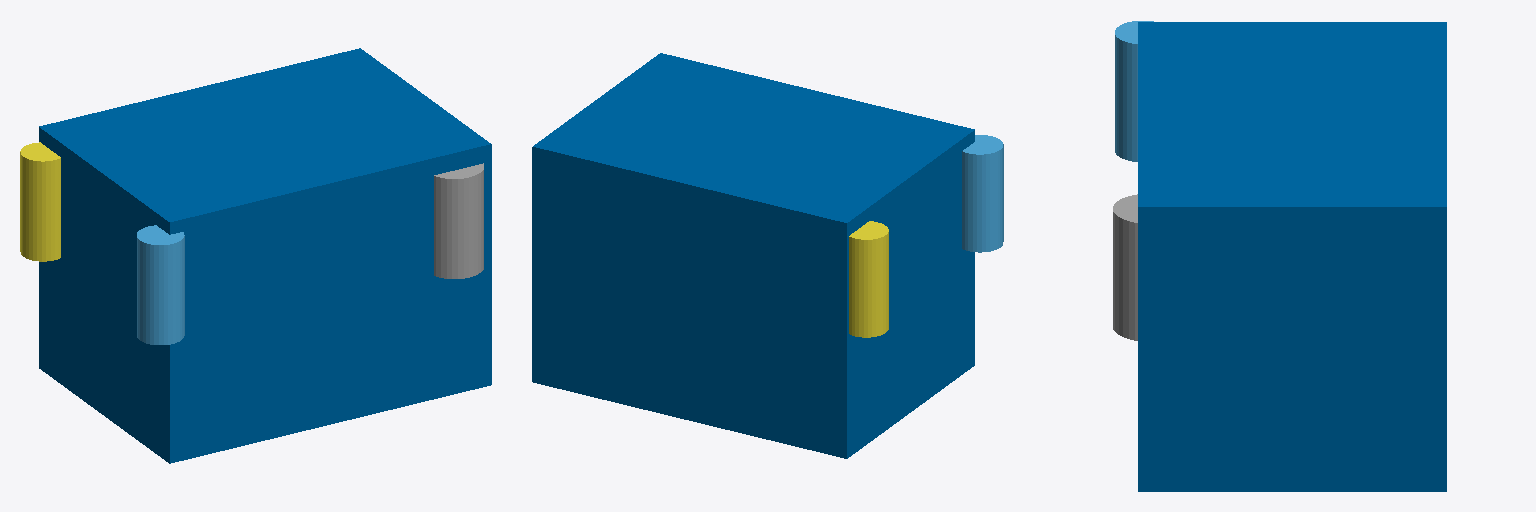
robot.urdf — rover2025:
<robot name="rover2025" version="1.0">
  <joint name="gps_locator" type="fixed">
    <origin rpy="0.00000 0.00000 0.00000" xyz="0.09323 0.00000 0.65743"/>
    <parent link="robot_root"/>
    <child link="gps"/>
    <axis xyz="0.00000 0.00000 1.00000"/>
  </joint>
  <joint name="robot_base_joint" type="fixed">
    <origin rpy="-0.00000 -0.00000 0.00000" xyz="0.00000 0.00000 -0.00050"/>
    <parent link="robot_root"/>
    <child link="robot_base"/>
  </joint>
  <joint name="wheel_R_front" type="continuous">
    <limit effort="0.00000" velocity="0.00000"/>
    <origin rpy="-0.00000 -0.00000 0.00000" xyz="-0.00000 -0.00000 -0.15555"/>
    <parent link="robot_wheel_l_front_actuator_link.008"/>
    <child link="robot_wheel_l_front_actuator_link.009"/>
    <axis xyz="0.00000 -1.00000 0.00000"/>
  </joint>
  <joint name="imu_joint" type="fixed">
    <origin rpy="-0.00000 0.00000 -0.00000" xyz="-0.00000 -0.00000 0.43039"/>
    <parent link="robot_base"/>
    <child link="imu"/>
  </joint>
  <joint name="rotate_L_back" type="revolute">
    <limit lower="-2.96706" upper="2.96706" effort="0.00000" velocity="0.00000"/>
    <origin rpy="-0.00000 -0.00000 0.00000" xyz="0.43705 -0.37063 0.32476"/>
    <parent link="robot_base"/>
    <child link="robot_wheel_l_front_actuator_link.005"/>
    <axis xyz="0.00000 0.00000 1.00000"/>
  </joint>
  <joint name="wheel_L_back" type="continuous">
    <limit effort="0.00000" velocity="0.00000"/>
    <origin rpy="0.00000 -0.00000 -0.00000" xyz="-0.00000 0.00000 -0.15555"/>
    <parent link="robot_wheel_l_front_actuator_link.005"/>
    <child link="robot_wheel_l_front_actuator_link.006"/>
    <axis xyz="0.00000 -1.00000 0.00000"/>
  </joint>
  <joint name="rotate_L_front" type="revolute">
    <limit lower="-2.96706" upper="2.96706" effort="0.00000" velocity="0.00000"/>
    <origin rpy="-0.00000 -0.00000 0.00000" xyz="-0.57753 -0.37063 0.32476"/>
    <parent link="robot_base"/>
    <child link="robot_wheel_l_front_actuator_link.003"/>
    <axis xyz="0.00000 0.00000 1.00000"/>
  </joint>
  <joint name="wheel_L_front" type="continuous">
    <limit effort="0.00000" velocity="0.00000"/>
    <origin rpy="0.00000 -0.00000 -0.00000" xyz="-0.00000 0.00000 -0.15555"/>
    <parent link="robot_wheel_l_front_actuator_link.003"/>
    <child link="robot_wheel_l_front_actuator_link.004"/>
    <axis xyz="0.00000 -1.00000 0.00000"/>
  </joint>
  <joint name="rotate_R_back" type="revolute">
    <limit lower="-2.96706" upper="2.96706" effort="0.00000" velocity="0.00000"/>
    <origin rpy="0.00000 -0.00000 -3.14159" xyz="0.43705 0.32063 0.32476"/>
    <parent link="robot_base"/>
    <child link="robot_wheel_l_front_actuator_link.011"/>
    <axis xyz="0.00000 0.00000 1.00000"/>
  </joint>
  <joint name="wheel_R_back" type="continuous">
    <limit effort="0.00000" velocity="0.00000"/>
    <origin rpy="-0.00000 -0.00000 0.00000" xyz="0.00000 0.00000 -0.15555"/>
    <parent link="robot_wheel_l_front_actuator_link.011"/>
    <child link="robot_wheel_l_front_actuator_link.012"/>
    <axis xyz="0.00000 -1.00000 0.00000"/>
  </joint>
  <joint name="rotate_R_front" type="revolute">
    <limit lower="-2.96706" upper="2.96706" effort="0.00000" velocity="0.00000"/>
    <origin rpy="0.00000 -0.00000 -3.14159" xyz="-0.57753 0.32063 0.32476"/>
    <parent link="robot_base"/>
    <child link="robot_wheel_l_front_actuator_link.008"/>
    <axis xyz="0.00000 0.00000 1.00000"/>
  </joint>
  <link name="robot_root">
    <collision name="body_collision">
      <origin rpy="0.00000 0.00000 0.00000" xyz="0.00000 0.00000 0.00000"/>
      <geometry>
        <box size="5.69672 4.01711 2.92977"/>
      </geometry>
    </collision>
  </link>
  <link name="gps">
    <sensor name="gps.001" type="GPS">
      <parent link="gps"/>
    </sensor>
  </link>
  <link name="robot_wheel_l_front_actuator_link.008">
    <inertial>
      <inertia ixx="0.00100" ixy="0.00000" ixz="0.00000" iyy="0.00100" iyz="-0.00000" izz="0.00100"/>
      <origin rpy="0.00000 0.00000 0.00000" xyz="0.00000 0.00000 -0.00000"/>
      <mass value="1.00000"/>
    </inertial>
    <visual name="bone-r-1">
      <material name="None"/>
      <origin rpy="0.00000 0.00000 1.57080" xyz="-0.00377 0.00334 0.07903"/>
      <geometry>
        <mesh filename="../meshes/stl/Science.422.stl" scale="1 1 1"/>
      </geometry>
    </visual>
  </link>
  <link name="robot_wheel_l_front_actuator_link.009">
    <collision name="wheel-r-1_collision">
      <origin rpy="0.00000 -0.00000 3.14159" xyz="-0.57753 0.32063 -0.16871"/>
      <geometry>
        <cylinder radius="0.78907" length="0.71014"/>
      </geometry>
    </collision>
    <visual name="wheel-r-1">
      <material name="None"/>
      <origin rpy="0.00000 0.00000 1.57080" xyz="-0.00334 0.00643 0.01418"/>
      <geometry>
        <cylinder radius="0.06742" length="0.32599"/>
      </geometry>
    </visual>
  </link>
  <link name="robot_base">
    <visual name="body">
      <material name="None"/>
      <origin rpy="-0.00000 0.00000 -0.00000" xyz="-0.00000 -0.00000 0.00050"/>
      <geometry>
        <box size="1.09671 0.77336 0.78564"/>
      </geometry>
    </visual>
  </link>
  <link name="imu">
    <sensor name="imu-sensor" type="imu">
      <parent link="imu"/>
    </sensor>
  </link>
  <link name="robot_wheel_l_front_actuator_link.005">
    <inertial>
      <inertia ixx="0.00100" ixy="-0.00000" ixz="-0.00000" iyy="0.00100" iyz="0.00000" izz="0.00100"/>
      <origin rpy="0.00000 0.00000 0.00000" xyz="0.00000 0.00000 -0.00000"/>
      <mass value="1.00000"/>
    </inertial>
    <visual name="bone-l-2">
      <material name="None"/>
      <origin rpy="-0.00000 -0.00000 -1.57080" xyz="-0.00056 0.00243 0.06913"/>
      <geometry>
        <mesh filename="../meshes/stl/Science.479.stl" scale="1 1 1"/>
      </geometry>
    </visual>
  </link>
  <link name="robot_wheel_l_front_actuator_link.006">
    <collision name="wheel-l-2_collision">
      <origin rpy="0.00000 0.00000 0.00000" xyz="-0.43705 0.37063 -0.16871"/>
      <geometry>
        <cylinder radius="0.78567" length="0.93707"/>
      </geometry>
    </collision>
    <visual name="wheel-l-2">
      <material name="None"/>
      <origin rpy="-0.00000 -0.00000 -1.57080" xyz="-0.00094 0.00902 0.00436"/>
      <geometry>
        <cylinder radius="0.08897" length="0.32599"/>
      </geometry>
    </visual>
  </link>
  <link name="robot_wheel_l_front_actuator_link.003">
    <inertial>
      <inertia ixx="0.00100" ixy="-0.00000" ixz="-0.00000" iyy="0.00100" iyz="0.00000" izz="0.00100"/>
      <origin rpy="0.00000 0.00000 0.00000" xyz="0.00000 0.00000 -0.00000"/>
      <mass value="1.00000"/>
    </inertial>
    <visual name="bone-l-1">
      <material name="None"/>
      <origin rpy="0.00000 -0.00000 1.57080" xyz="0.00364 0.00244 0.07904"/>
      <geometry>
        <mesh filename="../meshes/stl/Science.483.stl" scale="1 1 1"/>
      </geometry>
    </visual>
  </link>
  <link name="robot_wheel_l_front_actuator_link.004">
    <collision name="wheel-l-1_collision">
      <origin rpy="0.00000 0.00000 0.00000" xyz="0.57753 0.37063 -0.16871"/>
      <geometry>
        <cylinder radius="0.78693" length="0.85322"/>
      </geometry>
    </collision>
    <visual name="wheel-l-1">
      <material name="None"/>
      <origin rpy="0.00000 0.00000 1.57080" xyz="0.00517 -0.00424 0.02084"/>
      <geometry>
        <cylinder radius="0.07091" length="0.32602"/>
      </geometry>
    </visual>
  </link>
  <link name="robot_wheel_l_front_actuator_link.011">
    <inertial>
      <inertia ixx="0.00100" ixy="0.00000" ixz="0.00000" iyy="0.00100" iyz="0.00000" izz="0.00100"/>
      <origin rpy="0.00000 0.00000 0.00000" xyz="0.00000 0.00000 -0.00000"/>
      <mass value="1.00000"/>
    </inertial>
    <visual name="bone-r-2">
      <material name="None"/>
      <origin rpy="-0.00000 -0.00000 -1.57080" xyz="0.00033 0.00341 0.06913"/>
      <geometry>
        <mesh filename="../meshes/stl/Science.488.stl" scale="1 1 1"/>
      </geometry>
    </visual>
  </link>
  <link name="robot_wheel_l_front_actuator_link.012">
    <collision name="wheel-r-2_collision">
      <origin rpy="0.00000 -0.00000 3.14159" xyz="0.43705 0.32063 -0.16871"/>
      <geometry>
        <cylinder radius="0.77344" length="0.78904"/>
      </geometry>
    </collision>
    <visual name="wheel-r-2">
      <material name="None"/>
      <origin rpy="-0.00000 0.00000 -1.57080" xyz="0.00013 0.01000 0.00436"/>
      <geometry>
        <cylinder radius="0.07492" length="0.32598"/>
      </geometry>
    </visual>
  </link>
</robot>

--- Render facts (derived) ---
The picture shows the robot from 3 angles, left to right: view 1: azimuth 30°, elevation 25°; view 2: azimuth 150°, elevation 25°; view 3: azimuth 270°, elevation 25°; orthographic projection.
Robot: rover2025 — 12 links, 11 joints (4 revolute, 4 continuous, 3 fixed); root link robot_root; default pose: all joints at 0.
Links seen in each view (by area): view 1: robot_base, robot_wheel_l_front_actuator_link.004, robot_wheel_l_front_actuator_link.006, robot_wheel_l_front_actuator_link.009; view 2: robot_base, robot_wheel_l_front_actuator_link.004, robot_wheel_l_front_actuator_link.009; view 3: robot_base, robot_wheel_l_front_actuator_link.006, robot_wheel_l_front_actuator_link.004.
Link boxes in pixels (left/top/right/bottom): robot_base: left=39, top=48, right=491, bottom=463; robot_wheel_l_front_actuator_link.004: left=137, top=225, right=184, bottom=344; robot_wheel_l_front_actuator_link.006: left=434, top=163, right=483, bottom=278; robot_wheel_l_front_actuator_link.009: left=20, top=142, right=60, bottom=261; robot_base: left=532, top=53, right=974, bottom=458; robot_wheel_l_front_actuator_link.004: left=962, top=135, right=1003, bottom=252; robot_wheel_l_front_actuator_link.009: left=849, top=221, right=888, bottom=337; robot_base: left=1138, top=22, right=1446, bottom=491; robot_wheel_l_front_actuator_link.006: left=1113, top=194, right=1137, bottom=340; robot_wheel_l_front_actuator_link.004: left=1115, top=21, right=1153, bottom=161.
Size in the robot's own frame: 1.19 by 0.8373 by 0.7856 metres.
Meshes: 4 distinct files referenced, 0 mesh visuals loaded (none loaded); not drawn: 4 (reference not matched to a file when rendering).
